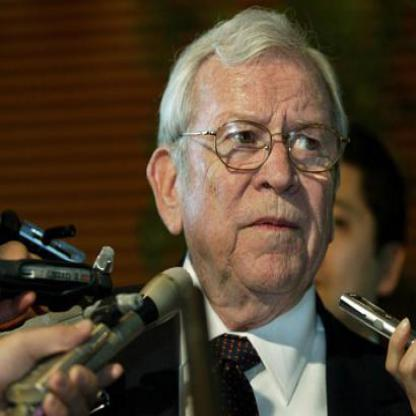face: (176, 20, 352, 303), (272, 138, 392, 331)
